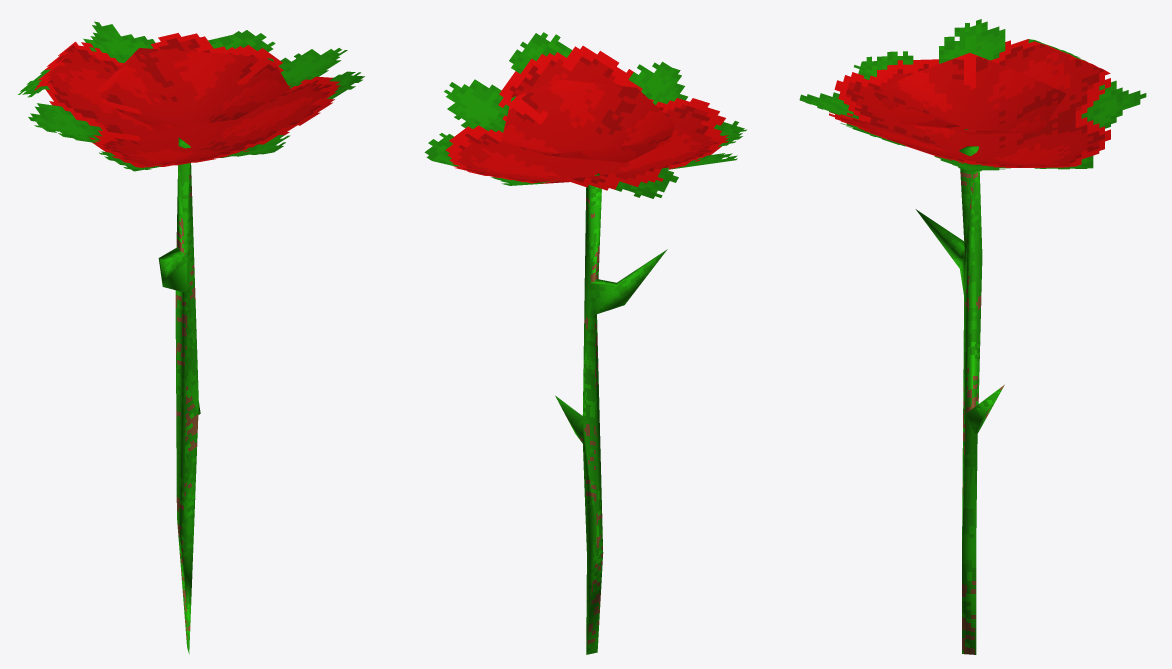
Rendered from FlorBasica.glb.
3 views of the same model, side by side, from view 1: azimuth 30°, elevation 25°; view 2: azimuth 150°, elevation 25°; view 3: azimuth 270°, elevation 25° (orthographic). The views are drawn at different scales.
Parts seen in each view (by area): view 1: Plane.006; view 2: Plane.006; view 3: Plane.006.
Boxes of the visible parts, x1,y1,x2,y2 form: Plane.006: [18, 21, 364, 654]; Plane.006: [424, 32, 746, 654]; Plane.006: [799, 19, 1146, 654].
Bounding box in the file's own units: 0.0556 × 0.097 × 0.0556.
Materials: 2 (2 with a texture image).
